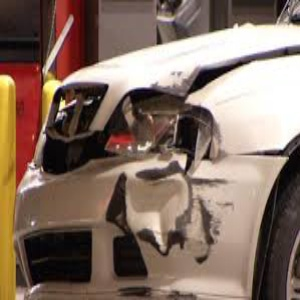bumper_scratch: (116, 159, 278, 278)
head_lights: (109, 89, 226, 161)
